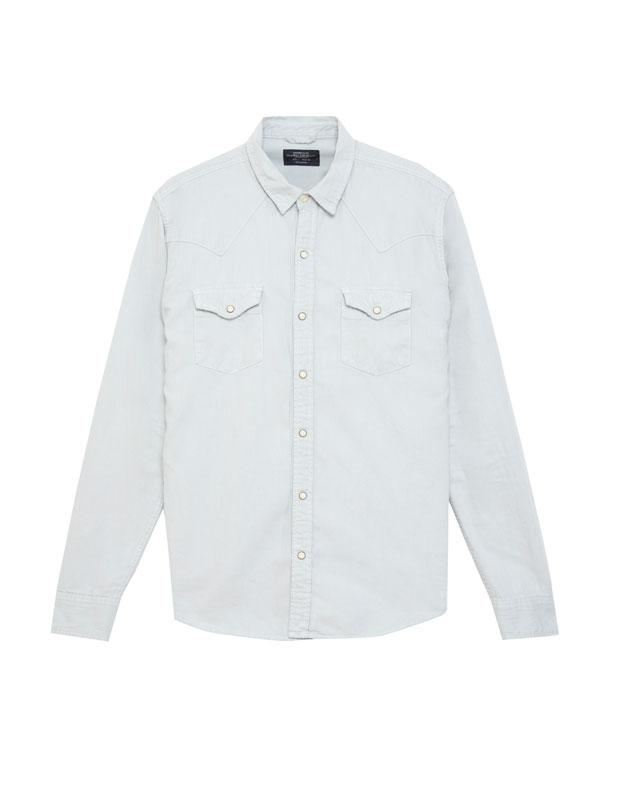teeshirt: (56, 114, 574, 661)
